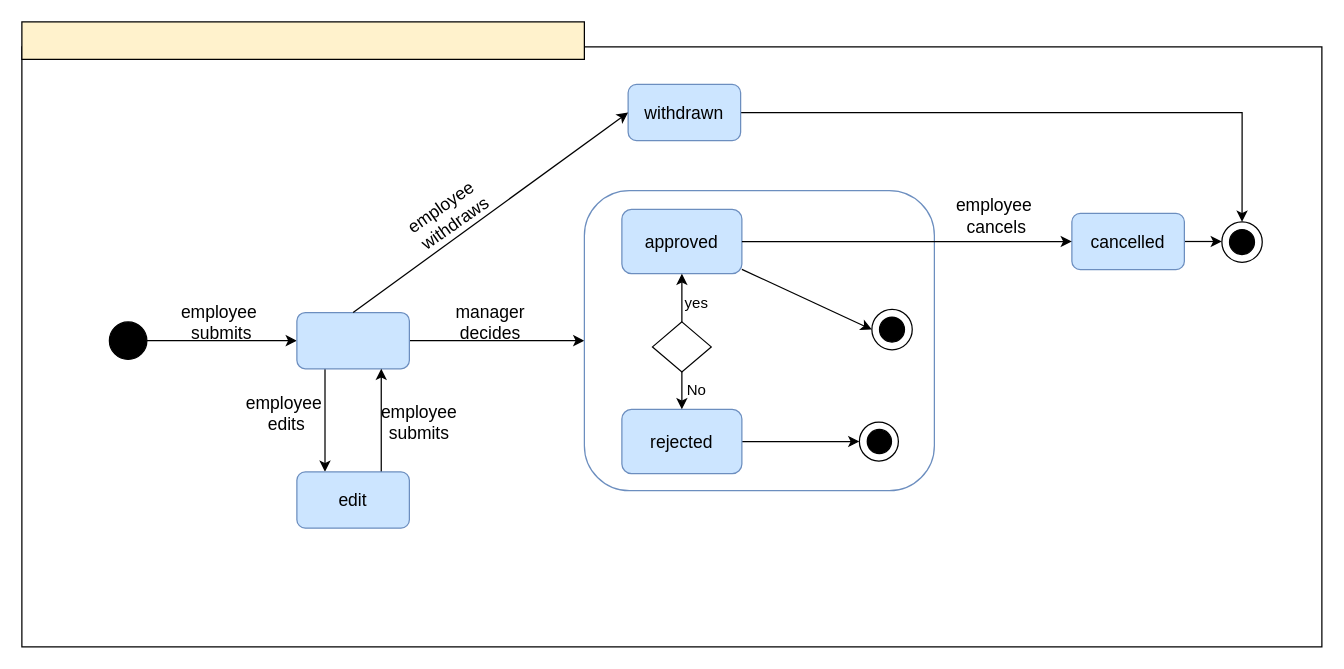
Image size: 1344x669. Some labels were removed from this diagram. Each missing label, with the box of its shape:
pending: (296, 311, 409, 369)
State Machine Diagram of Vacation Request: (21, 21, 584, 59)
